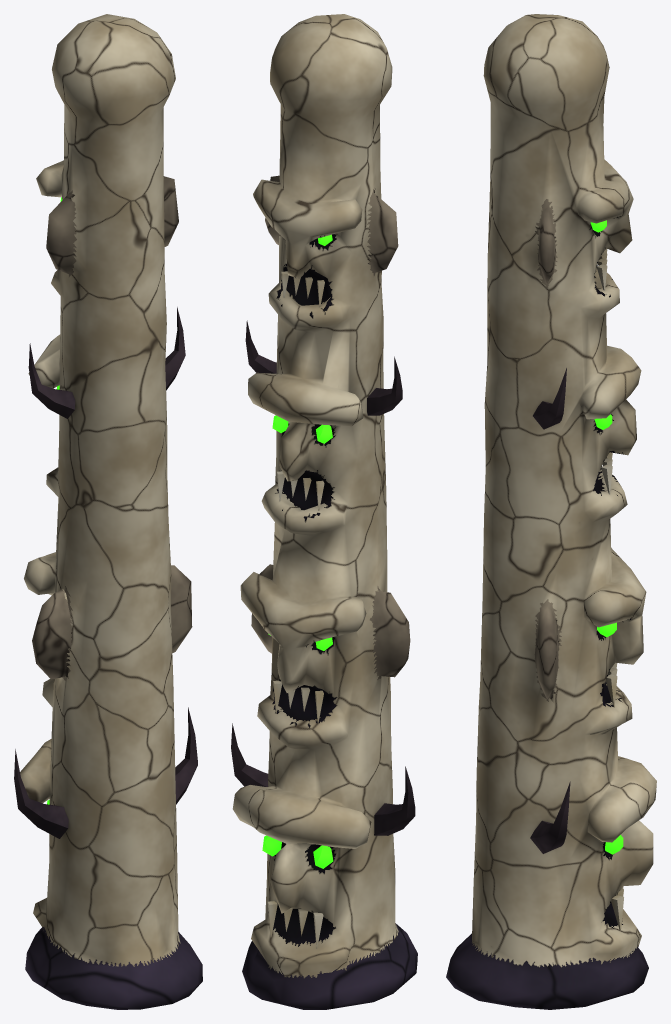
File: totem_ancestral.fbx
The picture shows the model from 3 angles, left to right: view 1: azimuth 30°, elevation 25°; view 2: azimuth 150°, elevation 25°; view 3: azimuth 270°, elevation 25°; orthographic projection.
Parts seen in each view (by area): view 1: totem; view 2: totem, ojos_neon; view 3: totem, ojos_neon.
Boxes of the visible parts, bbox=[...] form: totem: bbox=[14, 14, 202, 1009]; totem: bbox=[231, 14, 417, 1009]; ojos_neon: bbox=[262, 234, 333, 868]; totem: bbox=[446, 14, 656, 1009]; ojos_neon: bbox=[590, 220, 623, 854].
Bounding box in the file's own units: 2 × 9.99 × 2.
1 material, 1 textured.
